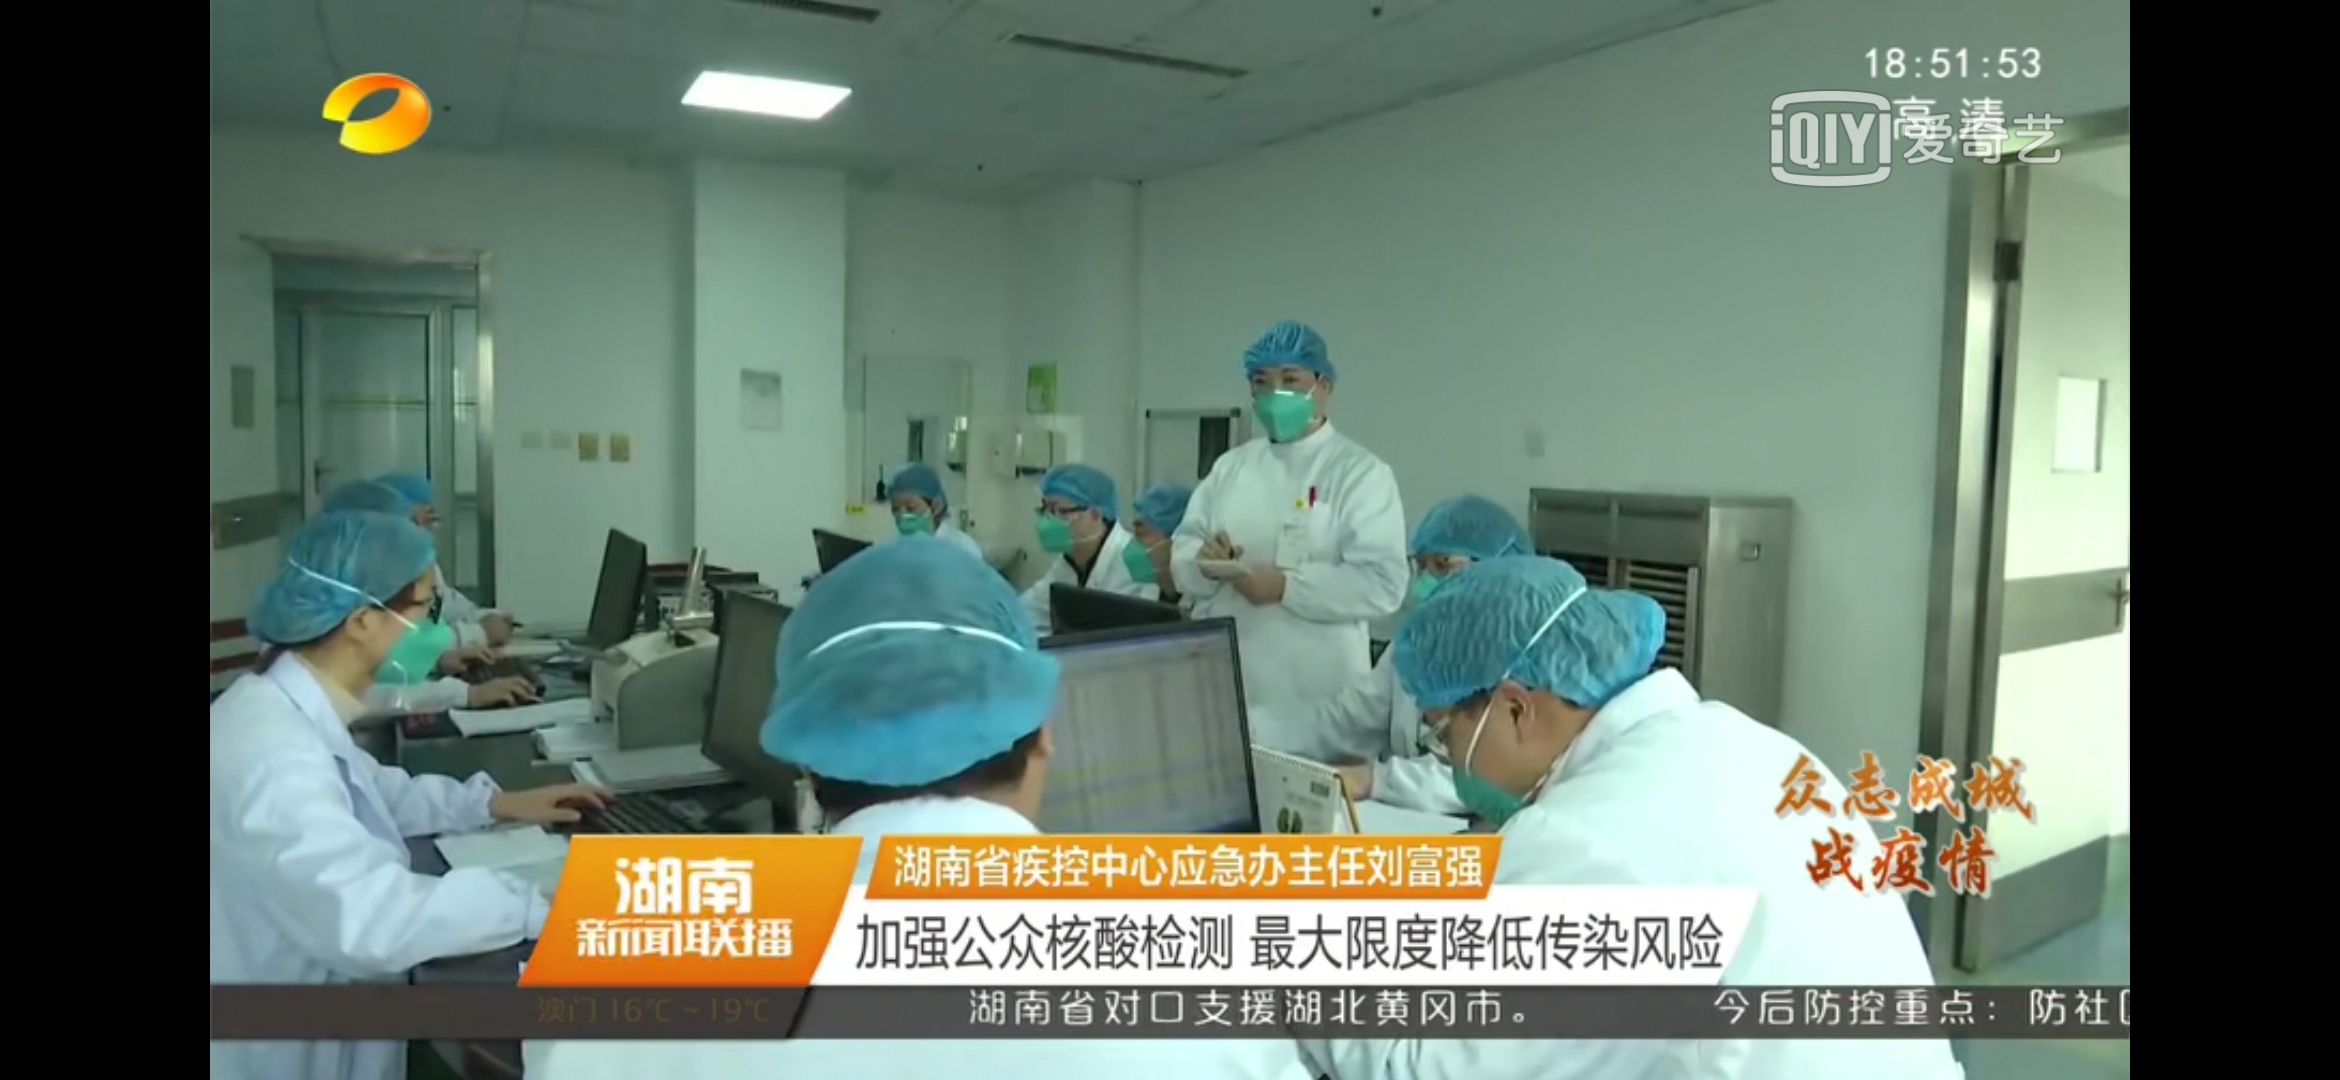correctlyWear: (1430, 685, 1564, 829), (334, 583, 460, 703), (1246, 365, 1330, 448), (1119, 518, 1177, 601), (1033, 500, 1104, 562), (1407, 550, 1474, 603), (886, 497, 948, 544)
